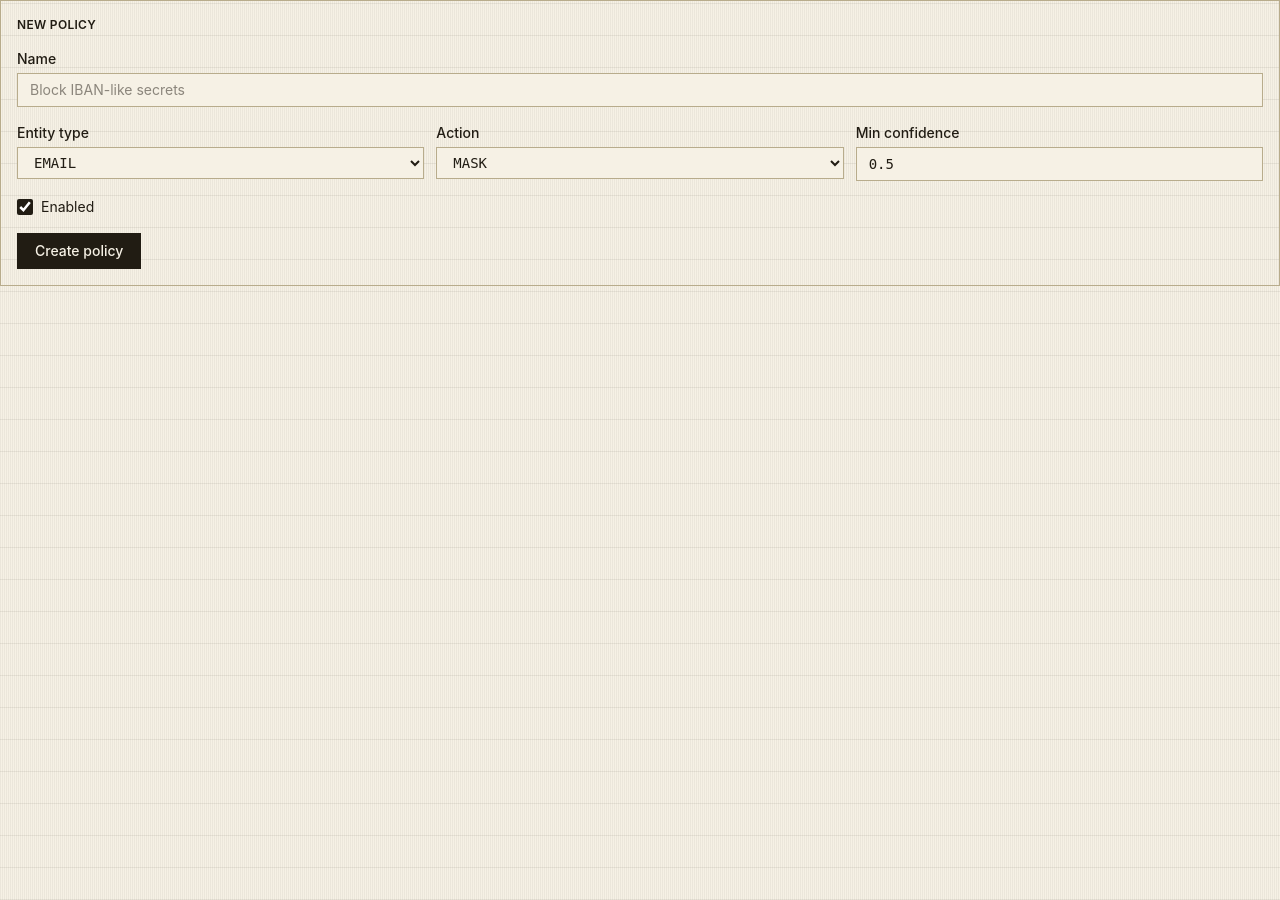
PolicyForm › shows a validation error when name is empty on submit
The width and height of the screenshot is (1280, 900).
Click the button "Create policy" at (79, 251), box x1=17 y1=233 x2=141 y2=269
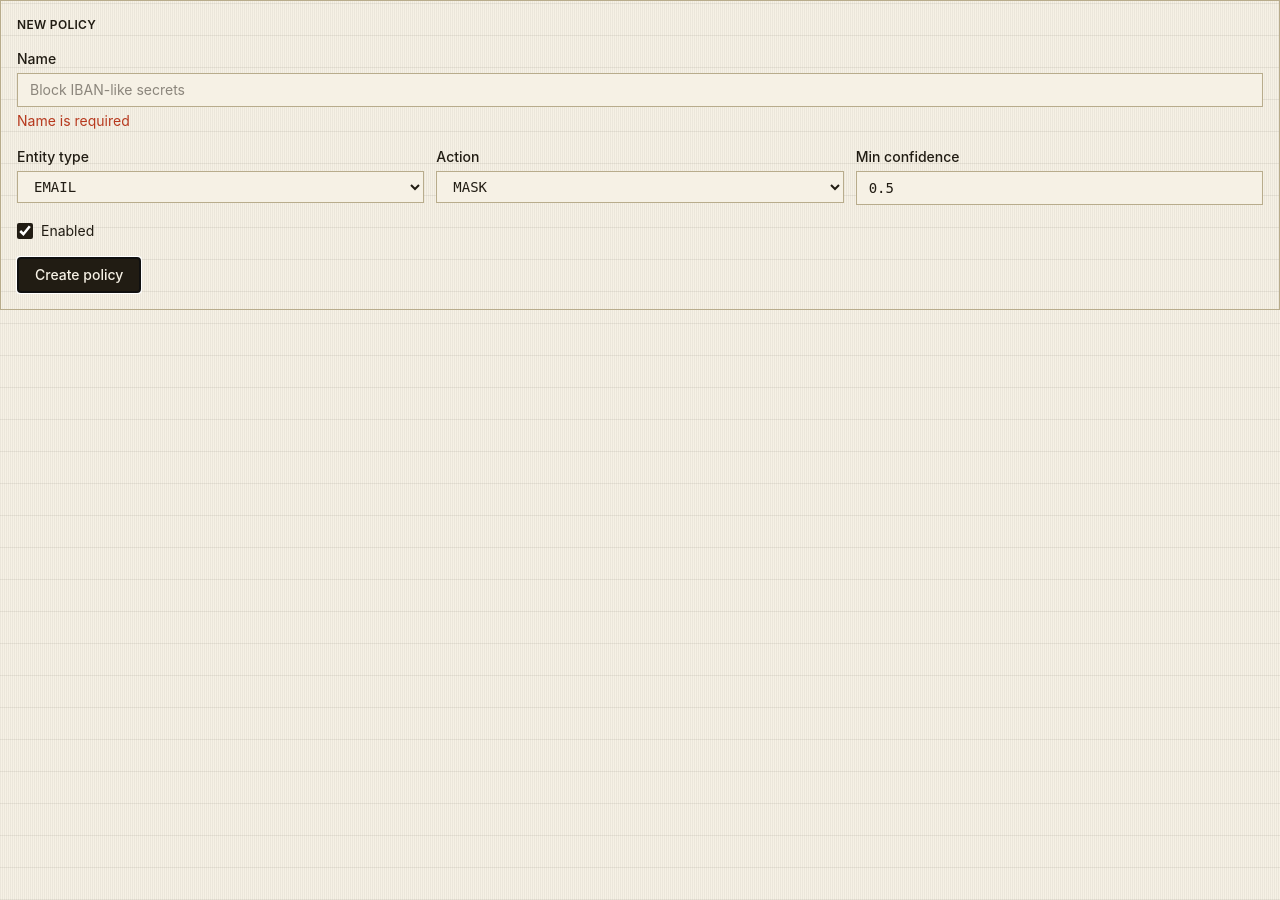
Check: the text "Name is required" is shown, box x1=17 y1=112 x2=130 y2=129
